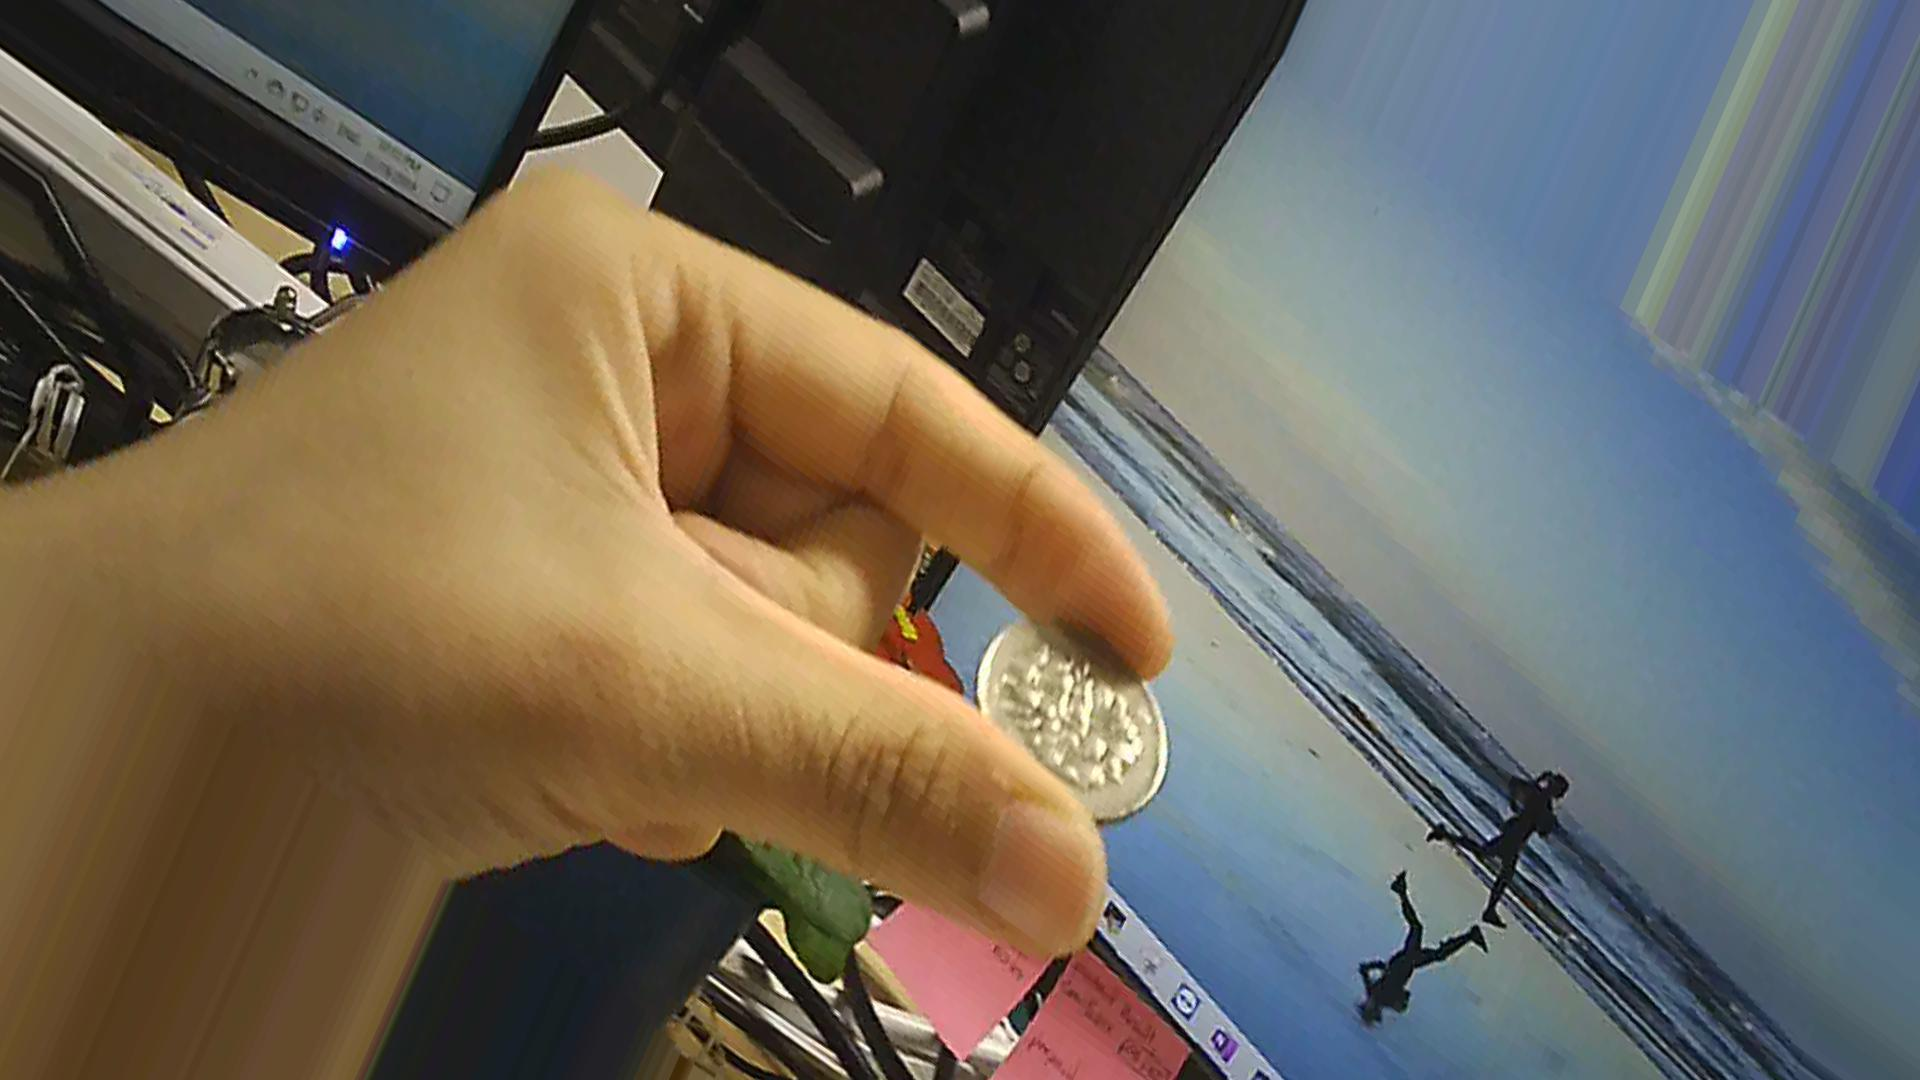100 Yen: (967, 607, 1168, 825)
